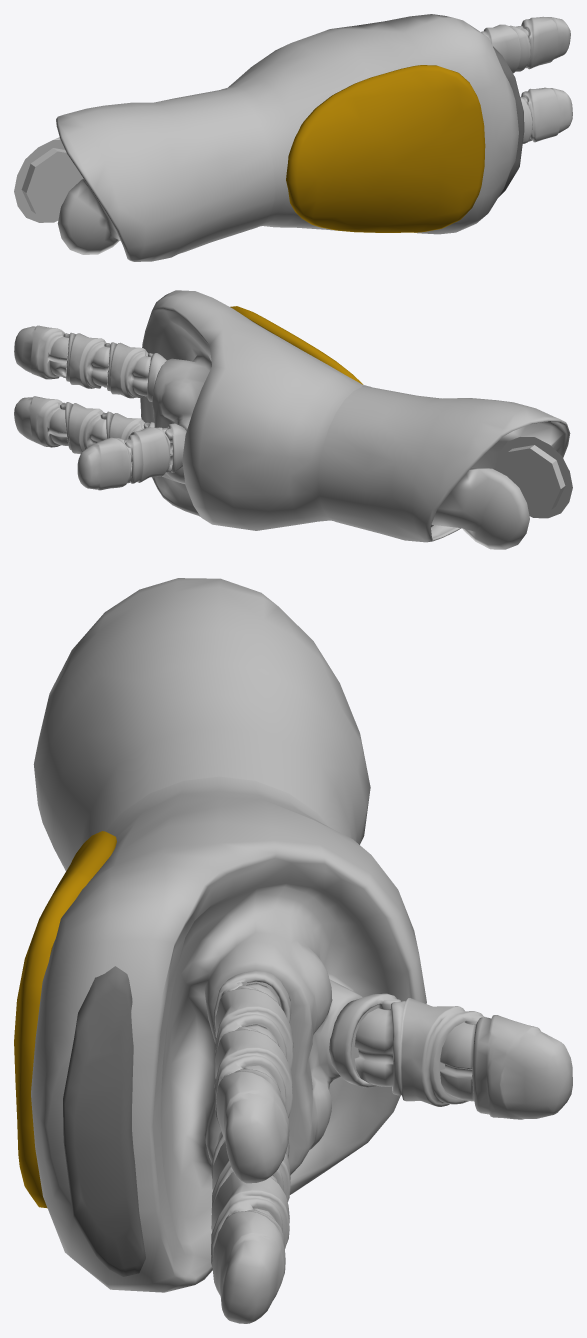
Rendered from LElbowRollComplete.dae.
3 views of the same model, one above another, from view 1: azimuth 30°, elevation 25°; view 2: azimuth 150°, elevation 25°; view 3: azimuth 270°, elevation 25° (orthographic). The views are drawn at different scales.
Parts seen in each view (by area): view 1: root_005; view 2: root_005; view 3: root_005.
Boxes of the visible parts, x1=… form: root_005: x1=14, y1=14, x2=572, y2=261; root_005: x1=14, y1=290, x2=572, y2=549; root_005: x1=14, y1=578, x2=572, y2=1323.
Size of the model in its own units: 186 by 85.28 by 68.29.
